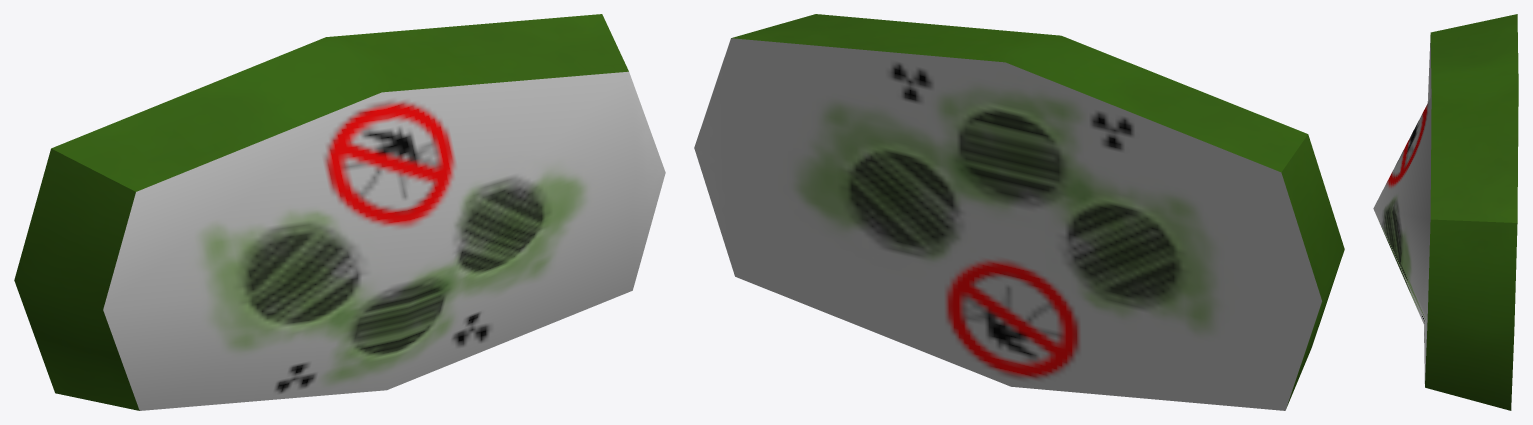
File: Repeller_Starter.fbx
3 renders of one model, left to right at view 1: azimuth 30°, elevation 25°; view 2: azimuth 150°, elevation 25°; view 3: azimuth 270°, elevation 25°, orthographic. The views are drawn at different scales.
Visible parts, largest first — view 1: UltraSonic_Mosquito_Repeller; view 2: UltraSonic_Mosquito_Repeller; view 3: UltraSonic_Mosquito_Repeller.
Boxes of the visible parts, bbox=[...] form: UltraSonic_Mosquito_Repeller: bbox=[14, 14, 665, 410]; UltraSonic_Mosquito_Repeller: bbox=[694, 14, 1344, 410]; UltraSonic_Mosquito_Repeller: bbox=[1373, 14, 1518, 410].
Bounding box in the file's own units: 0.4 × 0.1999 × 0.103.
